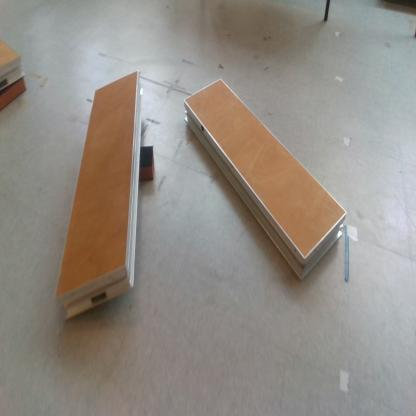Stairs: (183, 76, 349, 285), (56, 67, 146, 325), (1, 36, 28, 93)
